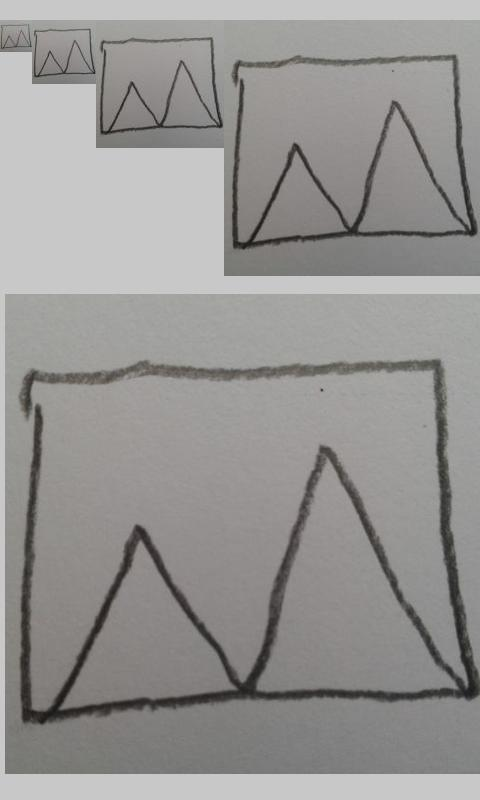image_view: (20, 362, 474, 726), (231, 51, 478, 247), (100, 37, 222, 134), (34, 28, 95, 77), (1, 24, 31, 49)
